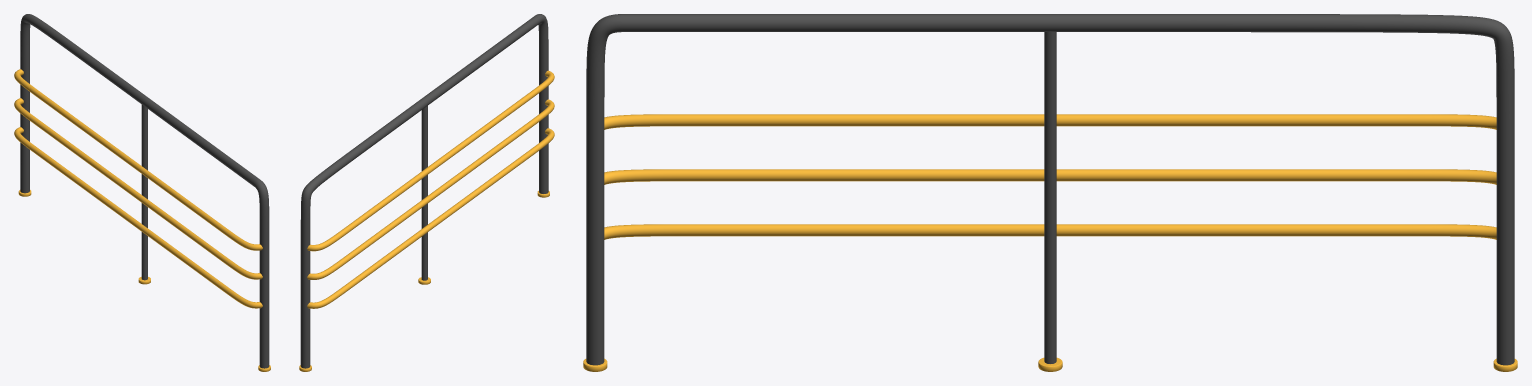
The model's file is Ringhiera3m.fbx.
The picture shows the model from 3 angles, left to right: view 1: azimuth 30°, elevation 25°; view 2: azimuth 150°, elevation 25°; view 3: azimuth 270°, elevation 25°; orthographic projection. The views are drawn at different scales.
Visible parts, largest first — view 1: MainStruct, BarraOriz2, BarraOriz3, BarraOriz1, BarraVert; view 2: MainStruct, BarraOriz2, BarraOriz1, BarraOriz3, BarraVert; view 3: MainStruct, BarraOriz1, BarraOriz2, BarraOriz3, BarraVert.
Part boxes in pixels (left/top/right/bottom): MainStruct: left=20, top=14, right=269, bottom=368; BarraOriz2: left=14, top=127, right=262, bottom=308; BarraOriz3: left=14, top=69, right=262, bottom=250; BarraOriz1: left=14, top=98, right=262, bottom=279; BarraVert: left=141, top=104, right=147, bottom=280; MainStruct: left=300, top=14, right=548, bottom=368; BarraOriz2: left=307, top=128, right=554, bottom=308; BarraOriz1: left=307, top=99, right=554, bottom=279; BarraOriz3: left=307, top=70, right=554, bottom=251; BarraVert: left=421, top=105, right=427, bottom=280; MainStruct: left=586, top=14, right=1514, bottom=365; BarraOriz1: left=604, top=169, right=1496, bottom=184; BarraOriz2: left=604, top=224, right=1496, bottom=239; BarraOriz3: left=604, top=114, right=1496, bottom=129; BarraVert: left=1044, top=31, right=1056, bottom=363.
Size of the model in its own units: 15.96 by 128 by 308.
